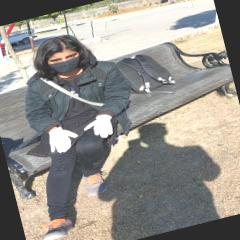gloved: (81, 112, 116, 143), (44, 124, 78, 154)
